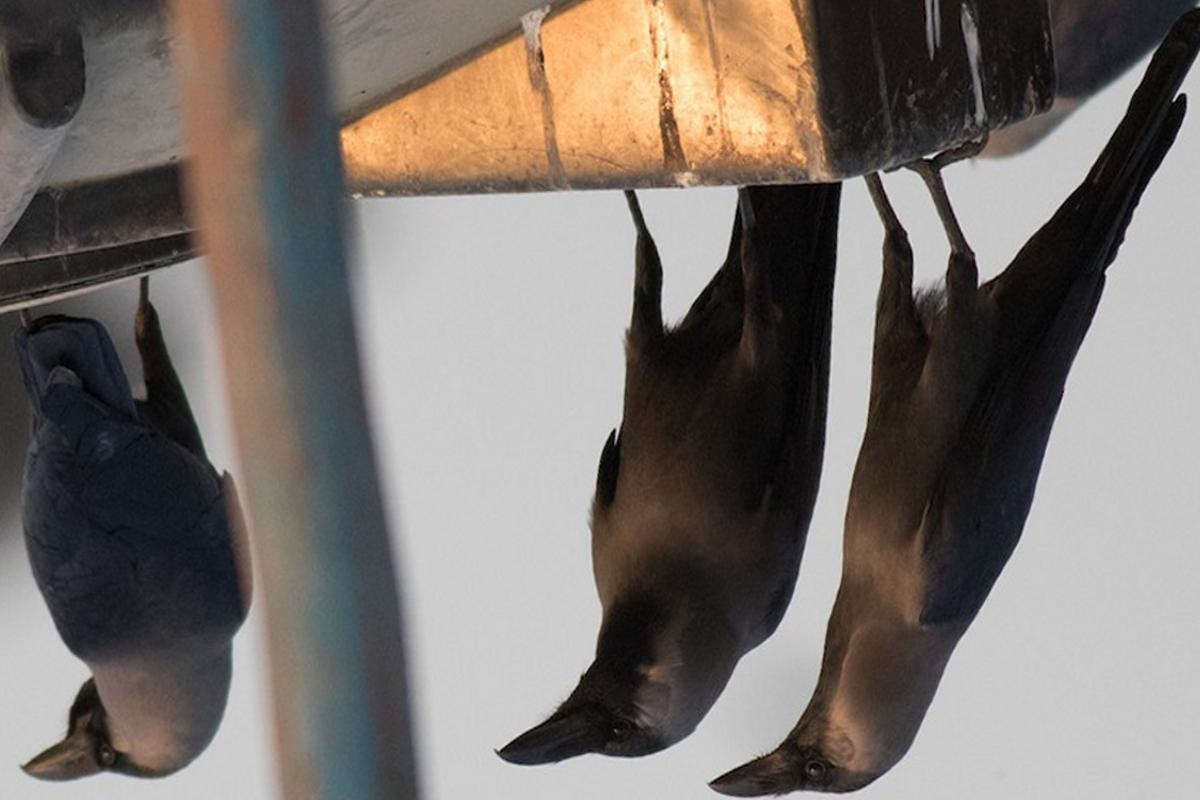crow: (705, 107, 1182, 798), (480, 144, 846, 771), (1, 274, 252, 793)
